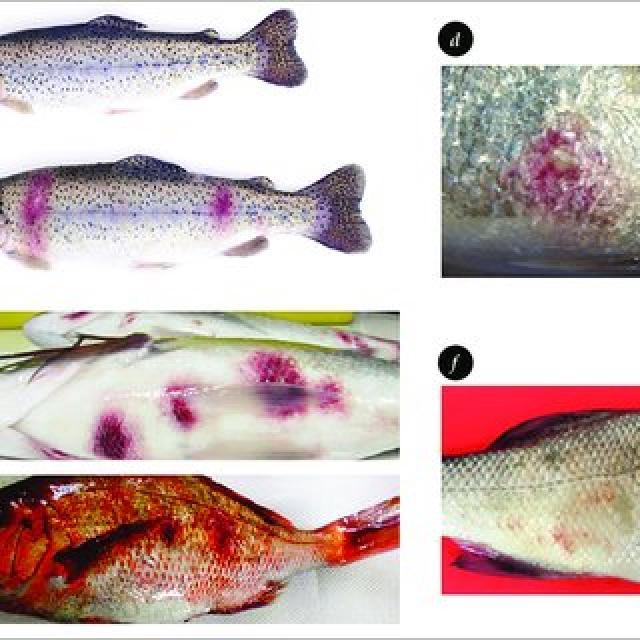EUS Disease: (0, 24, 640, 629), (0, 464, 401, 630), (37, 311, 378, 458), (446, 388, 640, 595), (473, 70, 640, 273), (2, 155, 84, 297), (178, 170, 286, 263)
